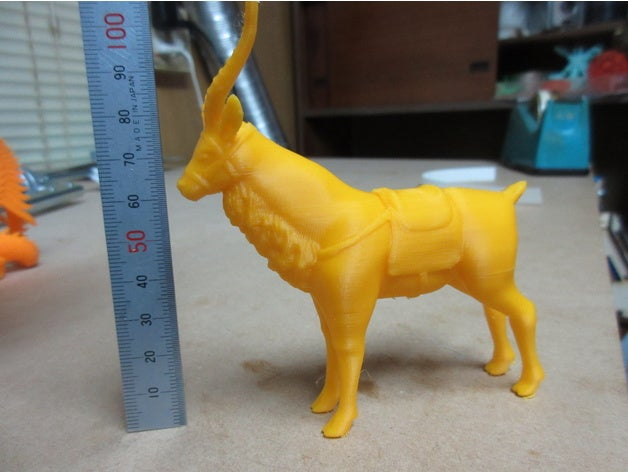Good: (165, 4, 580, 443)
